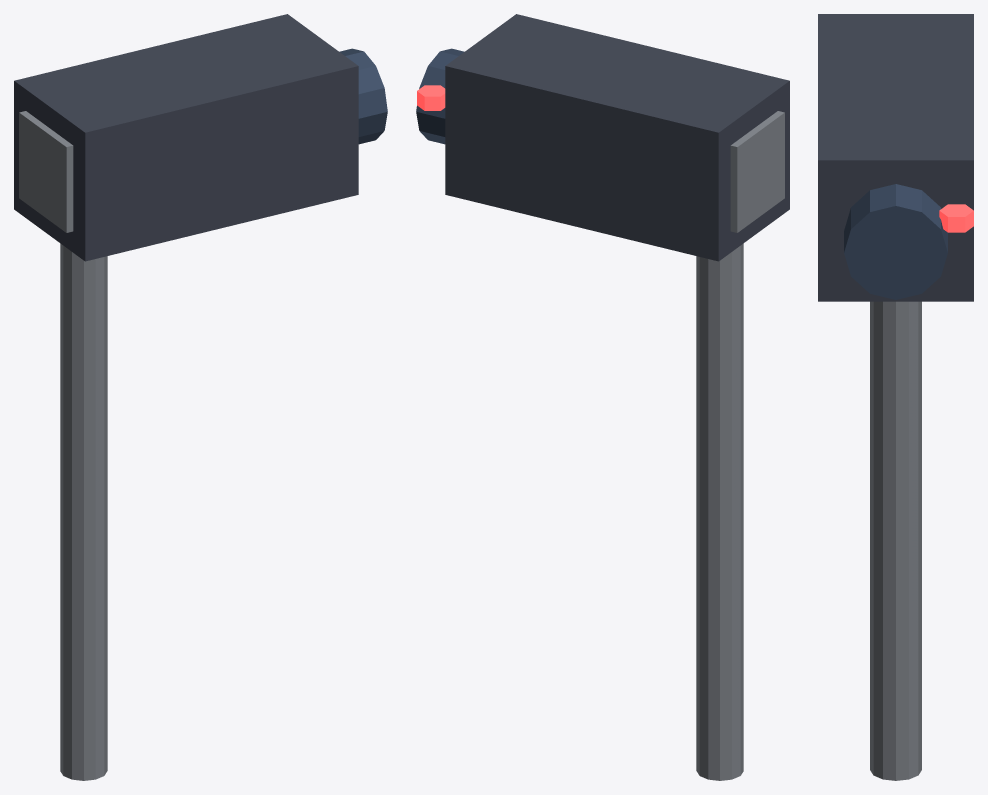
File: DETAIL_Security_Camera.glb
3 views of the same model, side by side, from view 1: azimuth 30°, elevation 25°; view 2: azimuth 150°, elevation 25°; view 3: azimuth 270°, elevation 25° (orthographic). The views are drawn at different scales.
Visible parts, largest first — view 1: DETAIL_Security_Camera; view 2: DETAIL_Security_Camera; view 3: DETAIL_Security_Camera.
Part boxes in pixels (x1=…): DETAIL_Security_Camera: x1=14, y1=14, x2=387, y2=780; DETAIL_Security_Camera: x1=416, y1=14, x2=789, y2=780; DETAIL_Security_Camera: x1=818, y1=14, x2=973, y2=780.
Size of the model in its own units: 0.47 by 0.94 by 0.1801.
